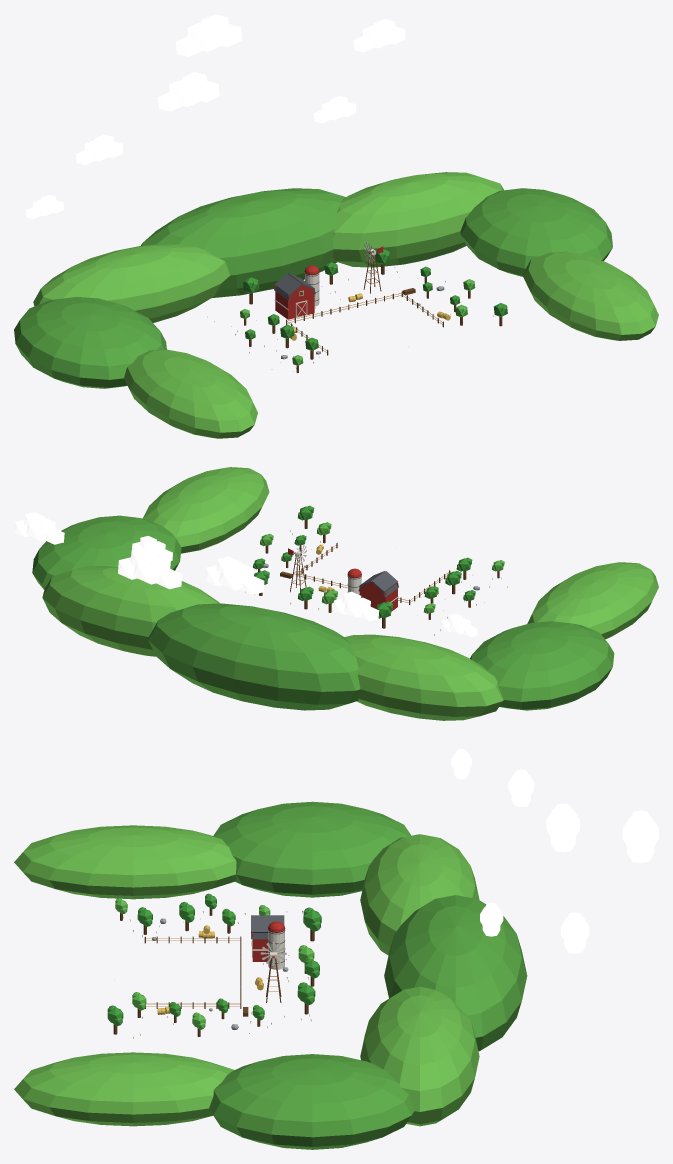
File: farm.glb
3 views of the same model, one above another, from view 1: azimuth 30°, elevation 25°; view 2: azimuth 150°, elevation 25°; view 3: azimuth 270°, elevation 25° (orthographic). The views are drawn at different scales.
Visible parts, largest first — view 1: Hills, Clouds, Trees, Barn, Fence; view 2: Hills, Clouds, Trees, Barn, Fence; view 3: Hills, Clouds, Trees, Barn, Fence, Silo, Props.
Boxes of the visible parts, x1,y1,x2,y2 form: Hills: (14,172,658,438); Clouds: (26,14,405,219); Trees: (240,249,507,372); Barn: (274,273,315,319); Fence: (286,291,443,355); Hills: (32,467,658,720); Clouds: (14,512,477,637); Trees: (253,505,504,628); Barn: (358,571,398,611); Fence: (296,543,450,604); Hills: (14,801,527,1149); Clouds: (451,749,658,953); Trees: (107,893,321,1036); Barn: (251,915,284,961); Fence: (144,936,241,1008); Silo: (268,921,285,969); Props: (114,908,311,1038).
Bounding box in the file's own units: 128 × 43.38 × 108.
